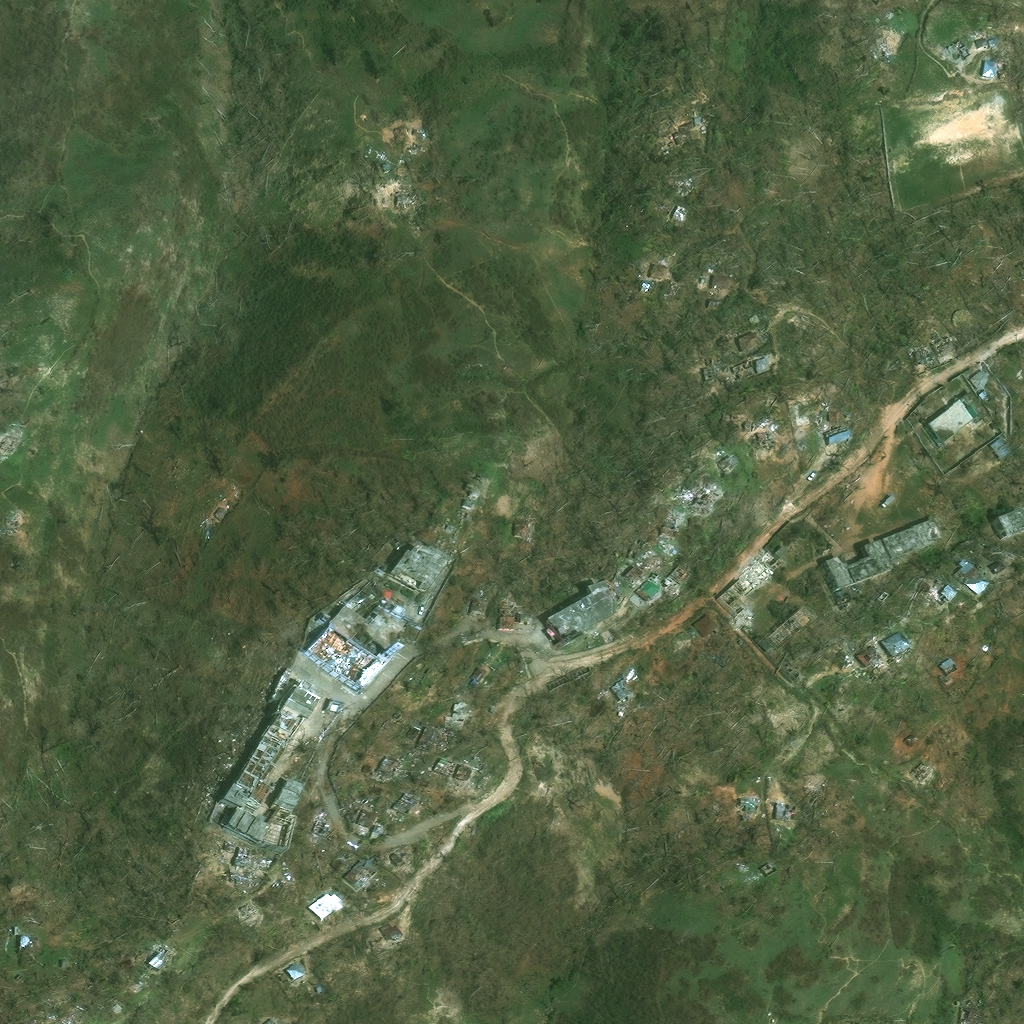destroyed: (370, 546, 423, 603), (681, 488, 709, 520), (934, 330, 965, 357), (648, 513, 674, 544), (490, 603, 512, 635), (671, 626, 697, 652), (895, 766, 920, 791), (452, 481, 476, 504), (611, 567, 634, 590), (999, 365, 1023, 387), (954, 396, 976, 419), (942, 346, 965, 367), (459, 599, 479, 623), (676, 169, 698, 190), (825, 404, 847, 424), (882, 28, 902, 48), (457, 670, 475, 692), (920, 777, 939, 797), (759, 699, 774, 723), (914, 345, 933, 363), (930, 341, 943, 367), (19, 896, 36, 915), (51, 901, 65, 924), (990, 629, 1007, 647), (894, 368, 912, 385), (633, 594, 650, 612), (953, 380, 969, 397), (614, 711, 632, 726), (635, 554, 651, 570), (519, 513, 533, 531), (396, 125, 410, 142), (621, 596, 635, 613), (315, 858, 330, 873), (710, 799, 725, 814), (351, 940, 367, 954), (660, 197, 676, 211), (918, 359, 933, 373), (644, 690, 659, 704), (966, 619, 977, 637), (523, 762, 537, 776), (373, 194, 386, 207), (725, 328, 738, 341), (663, 496, 677, 508), (446, 504, 459, 516), (984, 404, 997, 416), (935, 324, 948, 336), (906, 590, 920, 601), (994, 554, 1006, 566), (213, 875, 226, 886), (677, 128, 688, 141), (966, 485, 977, 497), (13, 374, 24, 386), (240, 901, 251, 912), (225, 500, 236, 511), (475, 616, 485, 628), (659, 174, 669, 186), (596, 693, 605, 705), (622, 550, 631, 560), (974, 17, 983, 26), (708, 886, 716, 895), (726, 376, 734, 383), (983, 17, 989, 26), (431, 533, 437, 539)
major_damage: (716, 540, 790, 626), (298, 625, 371, 696), (209, 736, 271, 815), (528, 588, 594, 656), (230, 746, 279, 815), (209, 814, 251, 853), (272, 682, 309, 726), (319, 607, 355, 643), (919, 661, 953, 694), (653, 564, 686, 597), (589, 578, 619, 613), (822, 423, 850, 454), (334, 867, 359, 900), (122, 957, 149, 984), (622, 581, 649, 608), (376, 797, 402, 825), (267, 672, 290, 702), (844, 652, 869, 677), (368, 758, 390, 786), (218, 849, 239, 877), (609, 678, 632, 702), (755, 810, 777, 832), (735, 356, 758, 377), (432, 773, 453, 795), (709, 456, 730, 477), (725, 802, 747, 822), (262, 716, 283, 736), (345, 813, 364, 834), (19, 933, 41, 951), (740, 418, 766, 433), (403, 739, 421, 759), (303, 823, 321, 842), (677, 199, 695, 217), (709, 357, 725, 377), (682, 113, 706, 125), (751, 433, 770, 447), (390, 192, 406, 208), (223, 805, 239, 821), (940, 658, 957, 673)
minor_damage: (826, 537, 892, 587), (881, 514, 947, 560), (762, 600, 818, 651), (922, 399, 972, 445), (983, 511, 1020, 545), (867, 637, 895, 671), (946, 572, 973, 604), (987, 436, 1012, 460), (744, 323, 768, 346), (365, 926, 387, 950), (217, 911, 238, 934), (371, 858, 391, 879), (721, 266, 744, 282), (839, 585, 857, 604), (941, 565, 959, 583), (659, 256, 676, 273), (979, 566, 991, 578), (972, 38, 985, 48)
no_damage: (966, 366, 991, 391), (305, 896, 331, 920), (692, 614, 716, 638)
unclassified: (950, 1011, 965, 1023), (90, 1015, 102, 1023)
